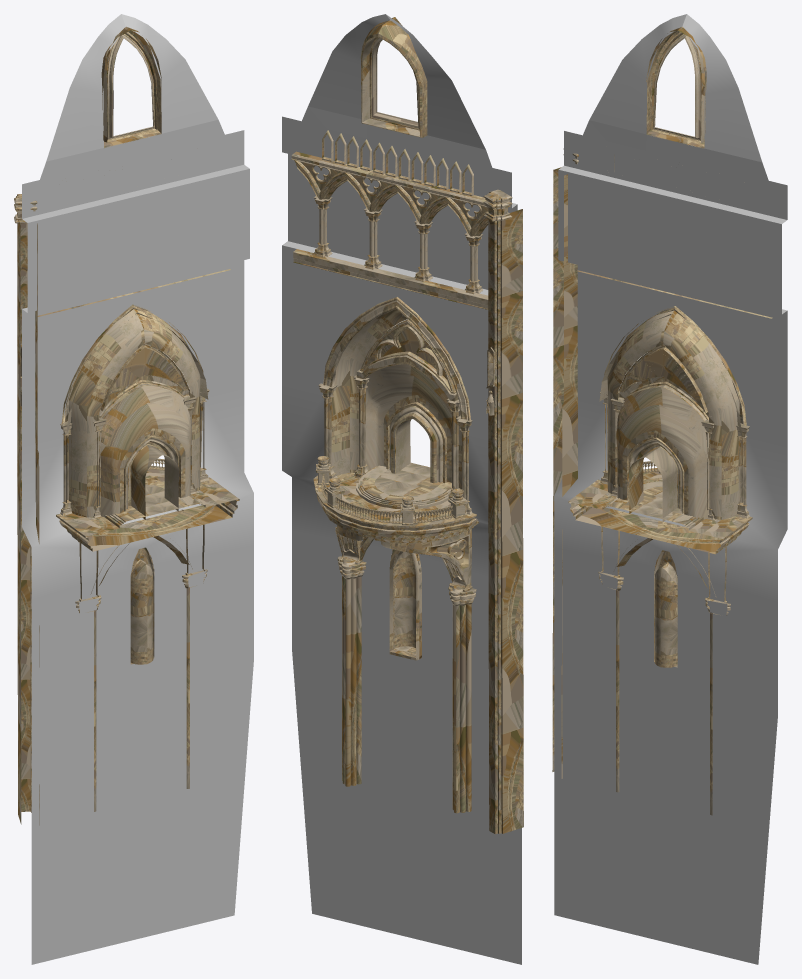
The model's file is SM_wall_03.fbx.
3 renders of one model, left to right at view 1: azimuth 30°, elevation 25°; view 2: azimuth 150°, elevation 25°; view 3: azimuth 330°, elevation 25°, orthographic. The views are drawn at different scales.
Parts seen in each view (by area): view 1: polySurface33657; view 2: polySurface33657; view 3: polySurface33657.
Boxes of the visible parts, bbox=[...] form: polySurface33657: bbox=[14, 14, 253, 964]; polySurface33657: bbox=[282, 14, 523, 964]; polySurface33657: bbox=[552, 14, 787, 964].
Bounding box in the file's own units: 24.81 × 94.28 × 12.17.
